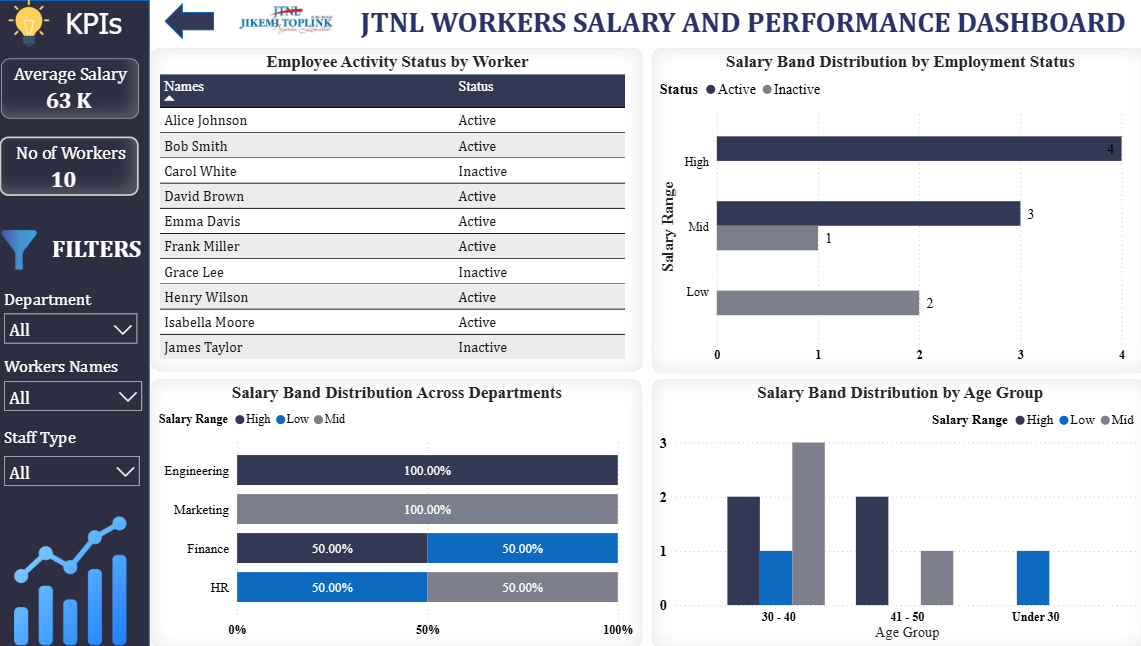

Layout of this report page (visuals, bound fields, positions):
{"tool":"powerbi","page":{"name":"JTNL 2","canvas":[1280,720],"ordinal":1},"visuals":[{"type":"shape","box":[3.2,0,168.4,720.6],"z":0},{"type":"textbox","box":[380.5,0,900.3,51.8],"z":1000},{"type":"image","box":[270.4,1.6,110.1,51.8],"z":2000},{"type":"clusteredBarChart","title":"Average Salary ","fields":{"Y":["Median(EMPLOYEES.Salary)"]},"box":[7.4,64.6,153.3,66.7],"z":2000,"group":"g2"},{"type":"textbox","box":[72.6,0,87.8,53.5],"z":3000},{"type":"cardVisual","title":"No of Workers ","fields":{"Data":["CountNonNull(EMPLOYEES.ID)"]},"box":[5.7,150.9,154.7,66],"z":4000,"group":"g1"},{"type":"textbox","box":[57.8,254.5,112.8,46.3],"z":4000},{"type":"slicer","fields":{"Values":["EMPLOYEES.Department"]},"box":[0,338.3,167.7,52],"z":5000},{"type":"slicer","fields":{"Values":["EMPLOYEES.Names"]},"box":[0,413.5,173.5,46.3],"z":6000},{"type":"slicer","fields":{"Values":["EMPLOYEES.Staff Type"]},"box":[0,497.3,170.6,43.4],"z":7000},{"type":"group","id":"g1","title":"Group 1","box":[5.7,150.9,154.7,68.9],"z":8000},{"type":"textbox","box":[5,315,156.7,35],"z":9000},{"type":"textbox","box":[5.8,390.4,159,31.8],"z":10000},{"type":"textbox","box":[5,468.3,158.3,36.7],"z":11000},{"type":"group","id":"g2","title":"Group 2","box":[7.4,64.6,153.3,66.7],"z":12000},{"type":"shape","box":[187.8,3.2,55.1,40.5],"z":13000},{"type":"image","box":[1.6,570,163.5,150.6],"z":14000},{"type":"textbox","box":[57.8,179.3,63.6,40.5],"z":14001,"group":"g1"},{"type":"image","box":[8.1,0,58.3,51.8],"z":15000},{"type":"textbox","box":[52.4,91.3,65,40],"z":15000,"group":"g2"},{"type":"image","box":[1.6,246.1,50.2,61.5],"z":16000},{"type":"tableEx","title":"Employee Activity Status by Worker","fields":{"Values":["EMPLOYEES.Names","EMPLOYEES.Status"]},"box":[173.3,53.4,545.7,359.5],"z":17000},{"type":"clusteredBarChart","title":"Salary Band Distribution by Employment Status","fields":{"Category":["EMPLOYEES.Salary Range"],"Y":["CountNonNull(EMPLOYEES.ID)"],"Series":["EMPLOYEES.Status"]},"box":[730.3,53.4,550.5,361.1],"z":18000},{"type":"clusteredColumnChart","title":"Salary Band Distribution by Age Group","fields":{"Category":["EMPLOYEES.Age Group"],"Series":["EMPLOYEES.Salary Range"],"Y":["CountNonNull(EMPLOYEES.ID)"]},"box":[730,421.7,550,298.3],"z":19000},{"type":"hundredPercentStackedBarChart","title":"Salary Band Distribution Across Departments","fields":{"Category":["EMPLOYEES.Department"],"Series":["EMPLOYEES.Salary Range"],"Y":["CountNonNull(EMPLOYEES.ID)"]},"box":[173.3,421.7,545,298.3],"z":20000}]}

Visuals, with their boxes in screenshot pixels (x1, y1, x2, y2), scaled from the page's 1280x720 canvas onto the 1141x646 screenshot:
shape: 3/0/153/645
textbox: 339/0/1140/46
image: 241/1/339/48
"Average Salary " clusteredBarChart: 7/58/143/118
textbox: 65/0/143/48
"No of Workers " cardVisual: 5/135/143/195
textbox: 52/228/152/270
slicer - EMPLOYEES.Department: 0/304/149/350
slicer - EMPLOYEES.Names: 0/371/155/413
slicer - EMPLOYEES.Staff Type: 0/446/152/485
"Group 1" group: 5/135/143/197
textbox: 4/283/144/314
textbox: 5/350/147/379
textbox: 4/420/146/453
"Group 2" group: 7/58/143/118
shape: 167/3/217/39
image: 1/511/147/645
textbox: 52/161/108/197
image: 7/0/59/46
textbox: 47/82/105/118
image: 1/221/46/276
"Employee Activity Status by Worker" tableEx: 154/48/641/370
"Salary Band Distribution by Employment Status" clusteredBarChart: 651/48/1140/372
"Salary Band Distribution by Age Group" clusteredColumnChart: 651/378/1140/645
"Salary Band Distribution Across Departments" hundredPercentStackedBarChart: 154/378/640/645
